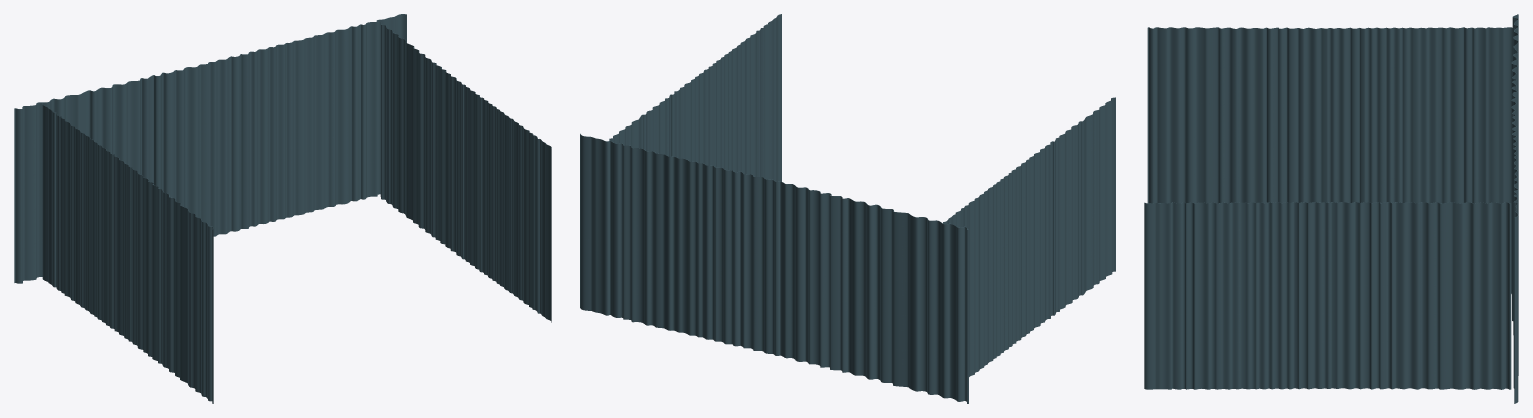
Rendered from curtain.fbx.
3 renders of one model, left to right at view 1: azimuth 30°, elevation 25°; view 2: azimuth 150°, elevation 25°; view 3: azimuth 270°, elevation 25°, orthographic. The views are drawn at different scales.
Visible parts, largest first — view 1: curtain3_geo, curtain1_geo, curtain2_geo; view 2: curtain3_geo, curtain2_geo, curtain1_geo; view 3: curtain1_geo, curtain2_geo, curtain3_geo.
Boxes of the visible parts, x1,y1,x2,y2 form: curtain3_geo: (14, 14, 406, 283); curtain1_geo: (380, 22, 551, 322); curtain2_geo: (42, 103, 213, 403); curtain3_geo: (580, 133, 968, 403); curtain2_geo: (943, 97, 1115, 376); curtain1_geo: (609, 14, 781, 181); curtain1_geo: (1144, 202, 1511, 389); curtain2_geo: (1147, 27, 1514, 203); curtain3_geo: (1511, 14, 1518, 403).
Bounding box in the file's own units: 2347 × 1000 × 1823.
1 material, 1 textured.
